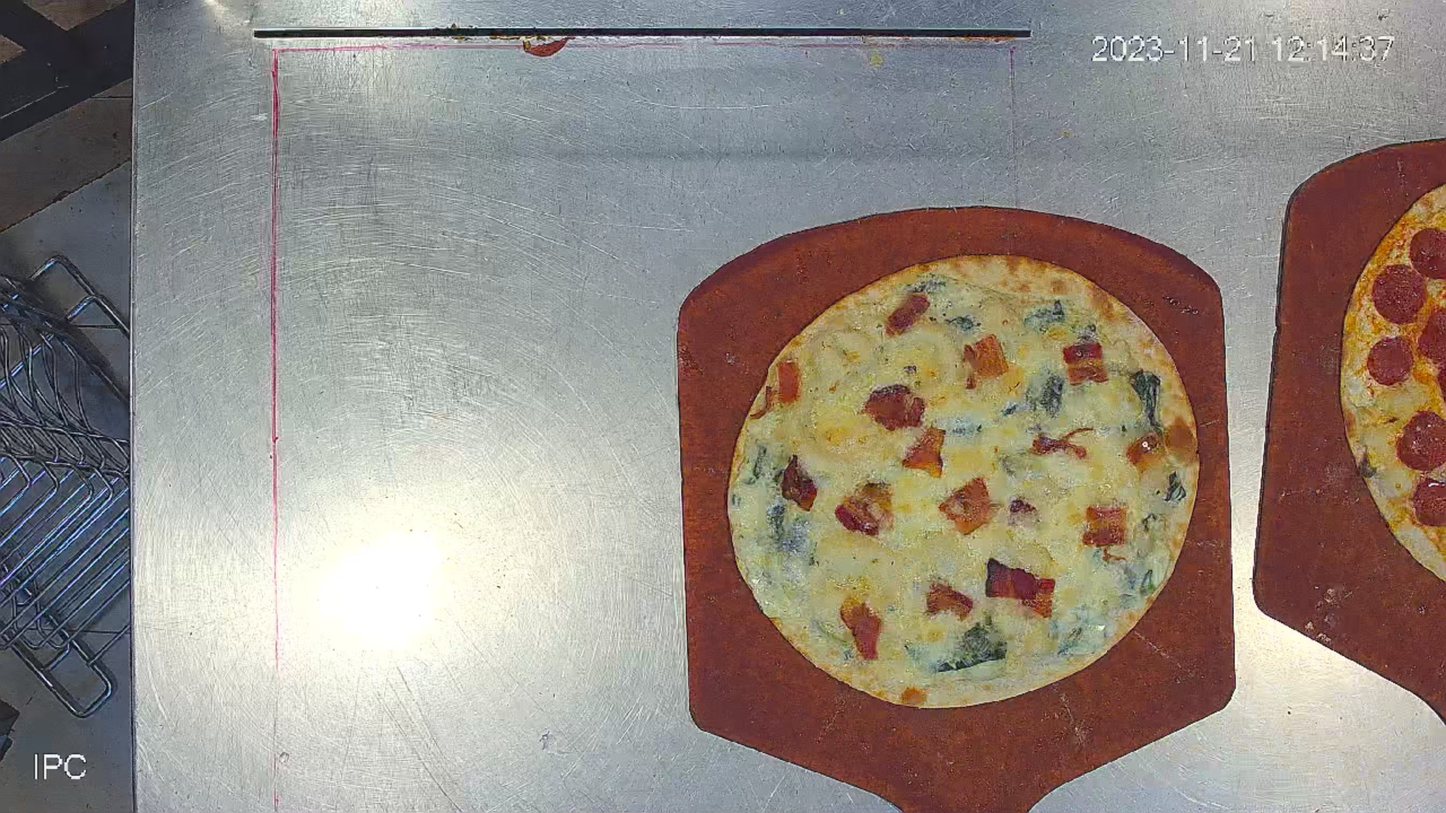pepporoni: (729, 256, 1194, 708), (1340, 182, 1446, 580)
